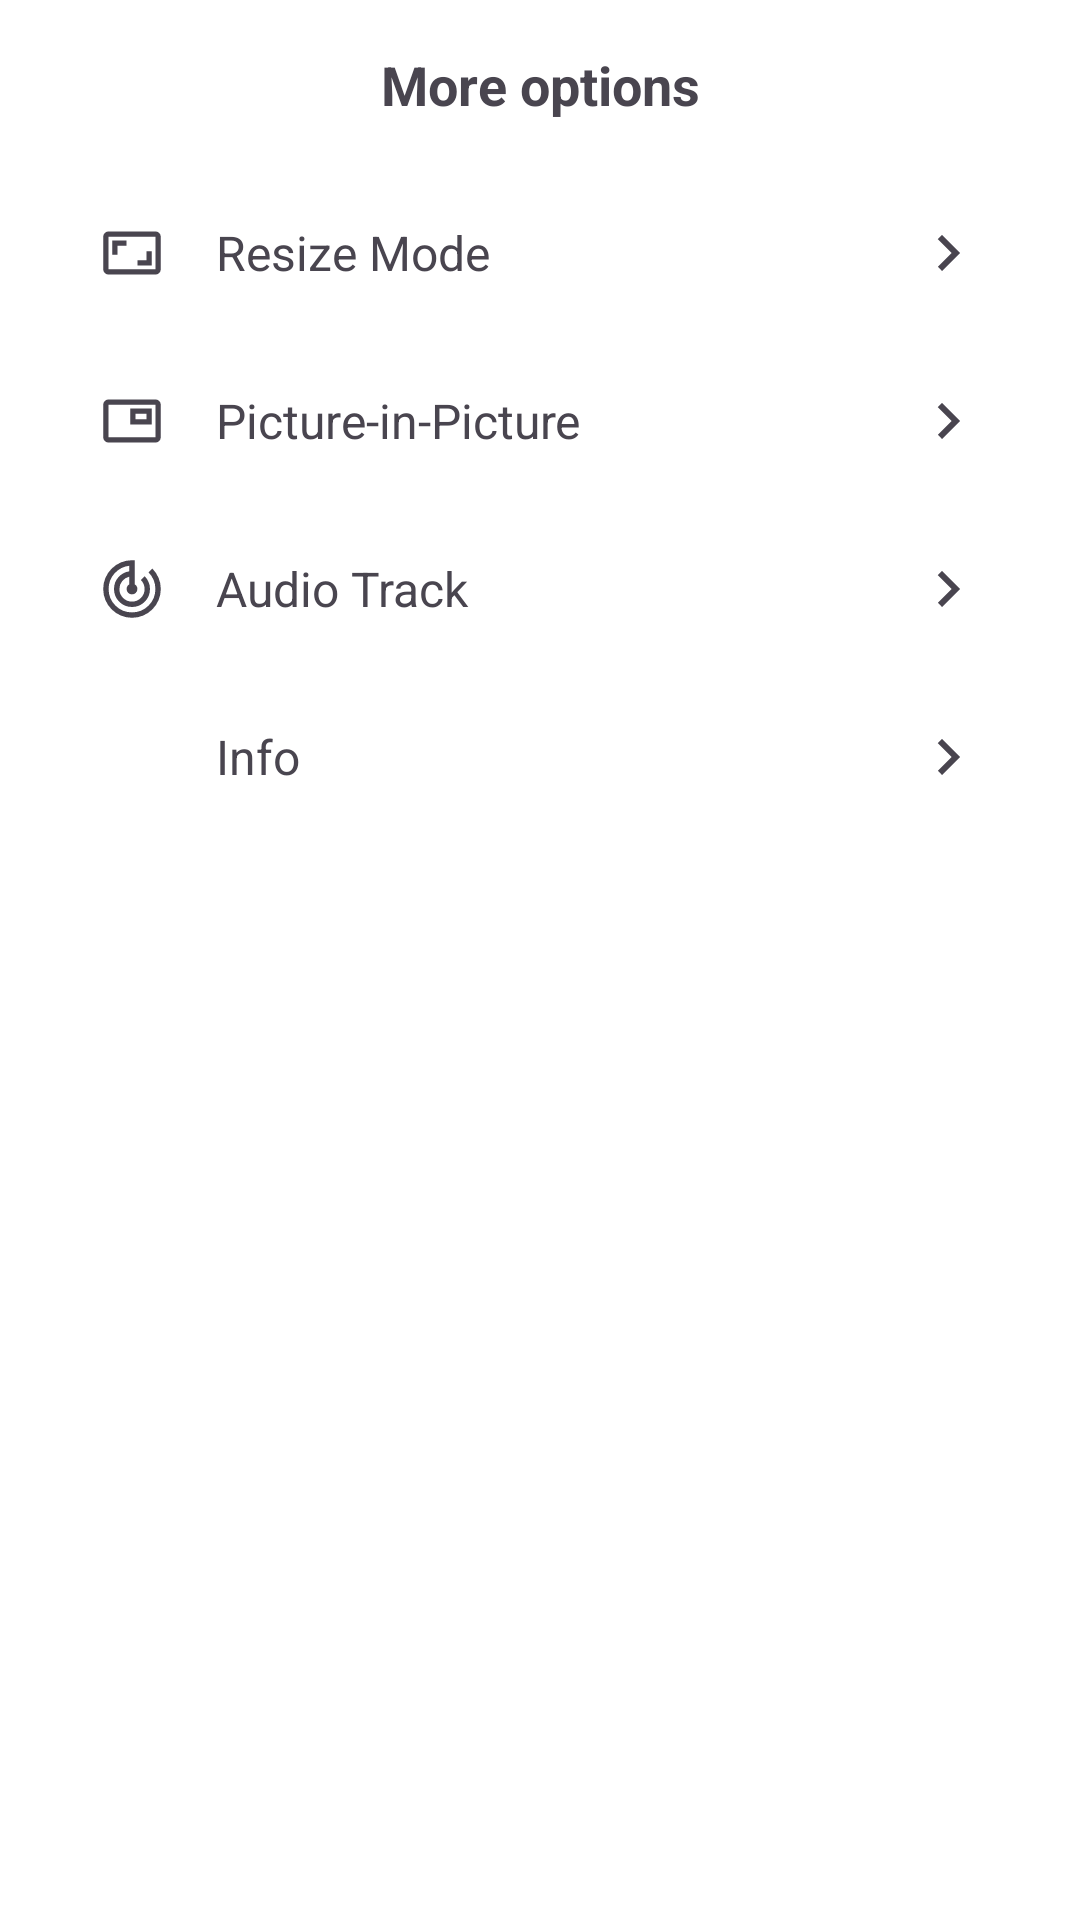

Where icons sit on this 1080*1920 app screen, as (x1, y1, x2, y2):
chevron right: (938, 235, 960, 271), (938, 403, 960, 439), (938, 571, 960, 607), (938, 739, 960, 775)
